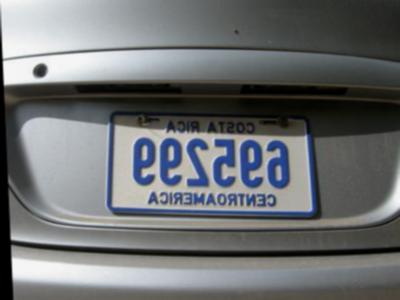License_Plate: (110, 117, 313, 209)
